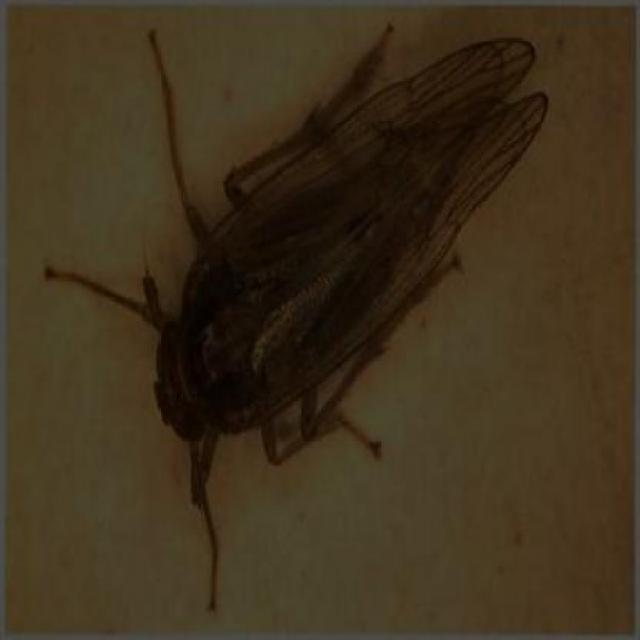brown-planthopper: (152, 27, 548, 501)
